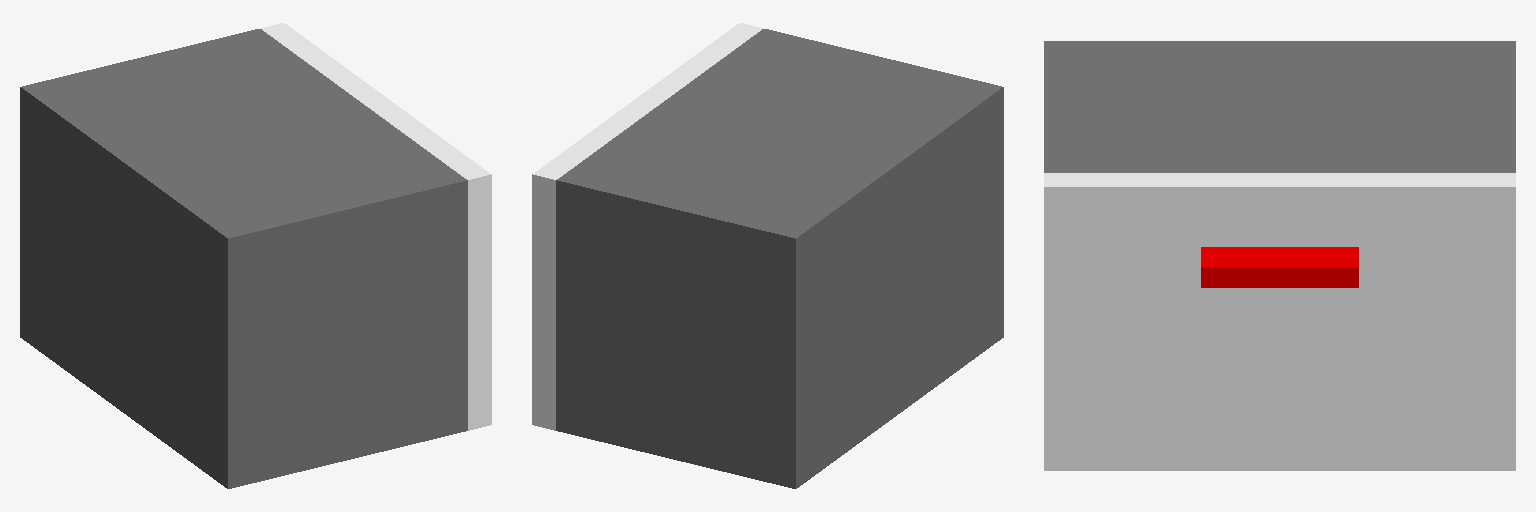
The robot description file, URDF, robot "cabinet":
<?xml version="1.0"?>
<robot name="cabinet">

  <link name="cabinet_base">
    <visual>
      <geometry>
        <box size="0.2 0.3 0.02"/>
      </geometry>
      <material name="gray"/>
      <origin xyz="0 0 -0.09"/>
    </visual>
    <collision>
      <geometry>
        <box size="0.2 0.3 0.02"/>
      </geometry>
      <origin xyz="0 0 -0.09"/>
    </collision>
    <inertial>
      <mass value="1"/>
      <inertia ixx="1" ixy="0.0" ixz="0.0" iyy="1" iyz="0.0" izz="1"/>
    </inertial>
  </link>

  <link name="cabinet_top">
    <visual>
      <geometry>
        <box size="0.2 0.3 0.02"/>
      </geometry>
      <material name="gray"/>
      <origin xyz="0 0 0.09"/>
    </visual>
    <collision>
      <geometry>
        <box size="0.2 0.3 0.02"/>
      </geometry>
      <origin xyz="0 0 0.09"/>
    </collision>
    <inertial>
      <mass value="1"/>
      <inertia ixx="1" ixy="0.0" ixz="0.0" iyy="1" iyz="0.0" izz="1"/>
    </inertial>
  </link>

  <link name="cabinet_left_side">
    <visual>
      <geometry>
        <box size="0.2 0.02 0.2"/>
      </geometry>
      <material name="gray"/>
      <origin xyz="0 -0.14 0"/>
    </visual>
    <collision>
      <geometry>
        <box size="0.2 0.02 0.2"/>
      </geometry>
      <origin xyz="0 -0.14 0"/>
    </collision>
    <inertial>
      <mass value="1"/>
      <inertia ixx="1" ixy="0.0" ixz="0.0" iyy="1" iyz="0.0" izz="1"/>
    </inertial>
  </link>

  <link name="cabinet_right_side">
    <visual>
      <geometry>
        <box size="0.2 0.02 0.2"/>
      </geometry>
      <material name="gray"/>
      <origin xyz="0 0.14 0"/>
    </visual>
    <collision>
      <geometry>
        <box size="0.2 0.02 0.2"/>
      </geometry>
      <origin xyz="0 0.14 0"/>
    </collision>
    <inertial>
      <mass value="1"/>
      <inertia ixx="1" ixy="0.0" ixz="0.0" iyy="1" iyz="0.0" izz="1"/>
    </inertial>
  </link>

  <link name="cabinet_back">
    <visual>
      <geometry>
        <box size="0.02 0.3 0.2"/>
      </geometry>
      <material name="gray"/>
      <origin xyz="-0.09 0 0"/>
    </visual>
    <collision>
      <geometry>
        <box size="0.02 0.3 0.2"/>
      </geometry>
      <origin xyz="-0.09 0 0"/>
    </collision>
    <inertial>
      <mass value="1"/>
      <inertia ixx="1" ixy="0.0" ixz="0.0" iyy="1" iyz="0.0" izz="1"/>
    </inertial>
  </link>

  <link name="door">
    <visual>
      <geometry>
        <box size="0.02 0.3 0.2"/>
      </geometry>
      <material name="white"/>
    </visual>
    <collision>
      <geometry>
        <box size="0.02 0.3 0.2"/>
      </geometry>
    </collision>
    <inertial>
      <mass value="0.1"/>
      <inertia ixx="0.001" ixy="0.0" ixz="0.0" iyy="0.001" iyz="0.0" izz="0.001"/>
    </inertial>
  </link>

  <link name="door_floor">
    <visual>
      <geometry>
        <box size="0.16 0.26 0.01"/>
      </geometry>
      <material name="white"/>
    </visual>
    <collision>
      <geometry>
        <box size="0.16 0.26 0.01"/>
      </geometry>
    </collision>
    <inertial>
      <mass value="0.1"/>
      <inertia ixx="0.001" ixy="0.0" ixz="0.0" iyy="0.001" iyz="0.0" izz="0.001"/>
    </inertial>
  </link>

  <link name="door_left_side">
    <visual>
      <geometry>
        <box size="0.16 0.01 0.16"/>
      </geometry>
      <material name="white"/>
    </visual>
    <collision>
      <geometry>
        <box size="0.16 0.01 0.16"/>
      </geometry>
    </collision>
    <inertial>
      <mass value="0.1"/>
      <inertia ixx="0.001" ixy="0.0" ixz="0.0" iyy="0.001" iyz="0.0" izz="0.001"/>
    </inertial>
  </link>

  <link name="door_right_side">
    <visual>
      <geometry>
        <box size="0.16 0.01 0.16"/>
      </geometry>
      <material name="white"/>
    </visual>
    <collision>
      <geometry>
        <box size="0.16 0.01 0.16"/>
      </geometry>
    </collision>
    <inertial>
      <mass value="0.1"/>
      <inertia ixx="0.001" ixy="0.0" ixz="0.0" iyy="0.001" iyz="0.0" izz="0.001"/>
    </inertial>
  </link>

  <link name="door_back">
    <visual>
      <geometry>
        <box size="0.01 0.26 0.16"/>
      </geometry>
      <material name="white"/>
    </visual>
    <collision>
      <geometry>
        <box size="0.01 0.26 0.16"/>
      </geometry>
    </collision>
    <inertial>
      <mass value="0.1"/>
      <inertia ixx="0.001" ixy="0.0" ixz="0.0" iyy="0.001" iyz="0.0" izz="0.001"/>
    </inertial>
  </link>

  <link name="door_handle">
    <visual>
      <geometry>
        <box size="0.04 0.1 0.015"/>
      </geometry>
      <material name="red"/>
    </visual>
    <collision>
      <geometry>
        <box size="0.04 0.1 0.015"/>
      </geometry>
    </collision>
    <inertial>
      <mass value="0.025"/>
      <inertia ixx="0.001" ixy="0.0" ixz="0.0" iyy="0.001" iyz="0.0" izz="0.001"/>
    </inertial>
  </link>

  <joint name="slider" type="prismatic">
    <axis xyz="1 0 0"/>
    <limit effort="1000.0" lower="0" upper="0.15" velocity="40"/>
    <parent link="cabinet_base"/>
    <child link="door"/>
    <origin xyz="0.11 0 0"/>
    <dynamics damping="0.0001" friction="0.0001"/>
  </joint>  

  <joint name="handle" type="fixed">
    <parent link="door"/>
    <child link="door_handle"/>
    <origin xyz="0.02 0 0.05"/>
  </joint>

  <joint name="cabinet-left" type="fixed">
    <parent link="cabinet_base"/>
    <child link="cabinet_left_side"/>
  </joint>
  <joint name="cabinet-right" type="fixed">
    <parent link="cabinet_base"/>
    <child link="cabinet_right_side"/>
  </joint>
  <joint name="cabinet-top" type="fixed">
    <parent link="cabinet_base"/>
    <child link="cabinet_top"/>
  </joint>
  <joint name="cabinet-back" type="fixed">
    <parent link="cabinet_base"/>
    <child link="cabinet_back"/>
  </joint>

  <joint name="door-floor" type="fixed">
    <parent link="door"/>
    <child link="door_floor"/>
    <origin xyz="-0.09 0 -0.075"/>
  </joint>
  <joint name="door-left" type="fixed">
    <parent link="door"/>
    <child link="door_left_side"/>
    <origin xyz="-0.09 -0.13 0"/>
  </joint>
  <joint name="door-right" type="fixed">
    <parent link="door"/>
    <child link="door_right_side"/>
    <origin xyz="-0.09 0.13 0"/>
  </joint>
  <joint name="door-back" type="fixed">
    <parent link="door"/>
    <child link="door_back"/>
    <origin xyz="-0.17 0 0"/>
  </joint>

  <material name="gray">
    <color rgba="0.5 0.5 0.5 1"/>
  </material>

  <material name="white">
    <color rgba="1 1 1 1"/>
  </material>

  <material name="red">
    <color rgba="1 0 0 1"/>
  </material>

</robot>

--- What the picture shows (computed from the rendered views, not written in the file) ---
The picture shows the robot from 3 angles, left to right: view 1: azimuth 30°, elevation 25°; view 2: azimuth 150°, elevation 25°; view 3: azimuth 270°, elevation 25°; orthographic projection.
Model cabinet with 11 links and 10 joints (1 prismatic, 9 fixed), rooted at cabinet_base, posed every joint at zero.
Visible links, largest first — view 1: cabinet_left_side, cabinet_top, cabinet_back, door, cabinet_base, cabinet_right_side; view 2: cabinet_top, cabinet_right_side, cabinet_back, door, cabinet_base, cabinet_left_side; view 3: door, cabinet_top, door_handle, cabinet_back, cabinet_left_side, cabinet_right_side.
Boxes of the visible links, x1,y1,x2,y2 form: cabinet_left_side: (214, 170, 467, 488); cabinet_top: (20, 29, 467, 262); cabinet_back: (20, 83, 251, 487); door: (260, 23, 491, 430); cabinet_base: (20, 324, 467, 488); cabinet_right_side: (20, 29, 261, 346); cabinet_top: (556, 29, 1003, 263); cabinet_right_side: (556, 170, 809, 488); cabinet_back: (772, 81, 1003, 487); door: (532, 23, 763, 430); cabinet_base: (556, 315, 1003, 488); cabinet_left_side: (756, 29, 1003, 346); door: (1044, 173, 1515, 470); cabinet_top: (1044, 41, 1515, 172); door_handle: (1201, 247, 1358, 287); cabinet_back: (1044, 41, 1515, 53); cabinet_left_side: (1044, 41, 1075, 172); cabinet_right_side: (1484, 41, 1515, 172).
Bounding box of the posed robot: 0.25 × 0.3 × 0.2 m (x, y, z).
Geometry: primitives only (box / cylinder / sphere), no mesh files.